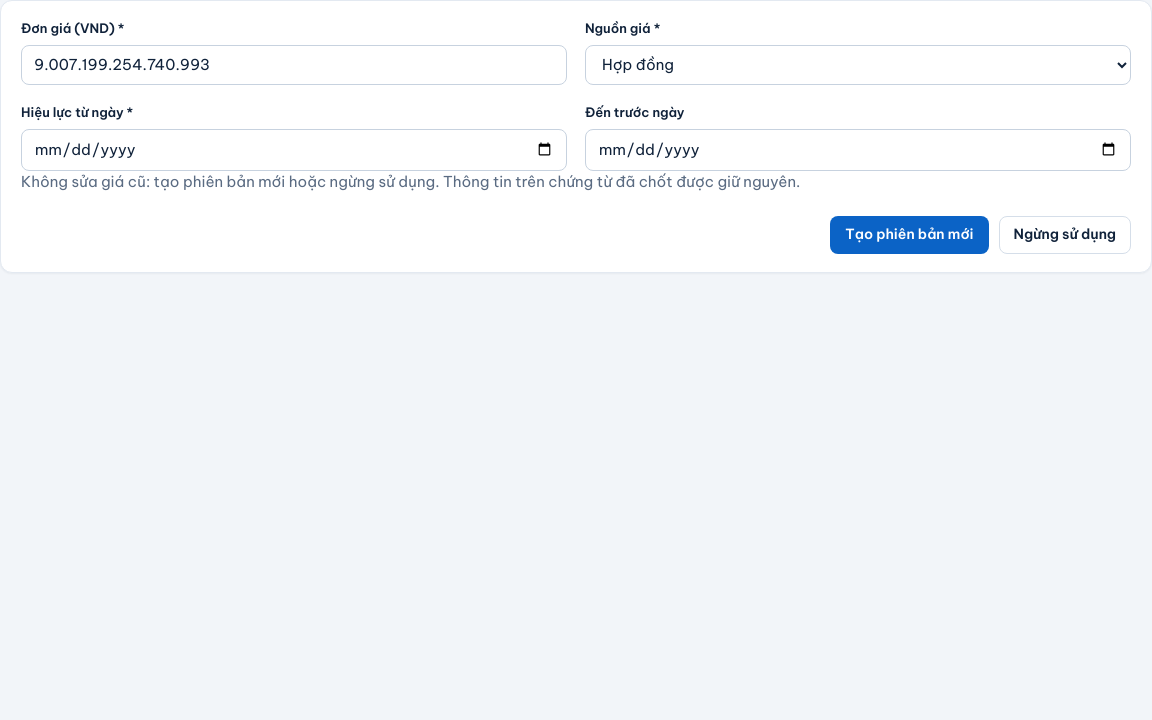
Test case: opens accessible confirmation with identity, exact cost, version and consequence without a write
The image size is (1152, 720).
Click the button "Ngừng sử dụng": point(1065, 234) [999,216,1131,254]
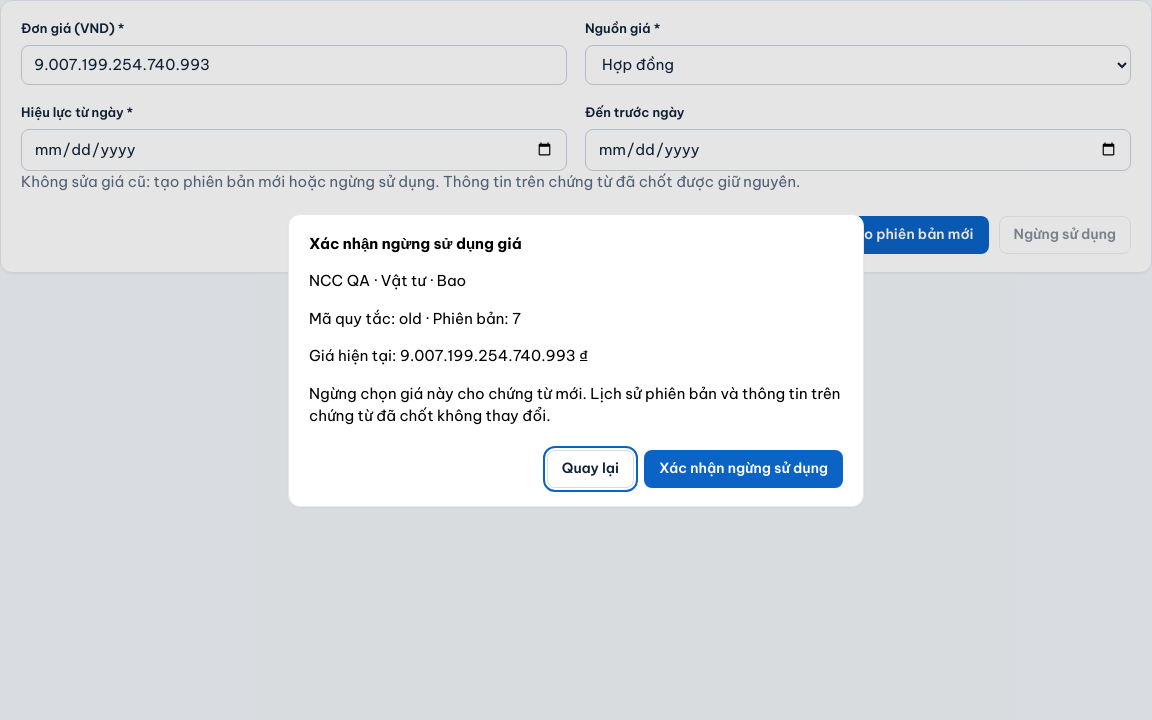
Result: the dialog "Xác nhận ngừng sử dụng giá" is shown at [288,214,864,506]
Result: the text "NCC QA · Vật tư · Bao" is shown at [309,271,466,290]
Result: the text "Mã quy tắc: old · Phiên bản: 7" is shown at [309,308,521,328]
